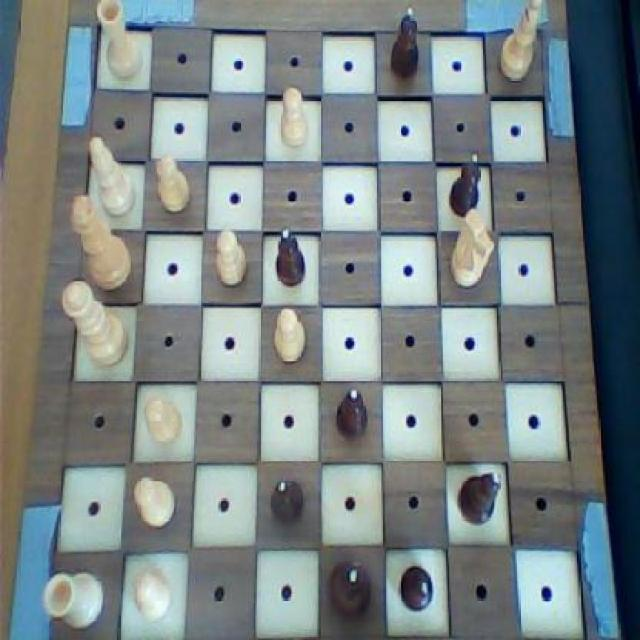bishop: (454, 466, 503, 528)
black-bishop: (326, 555, 374, 624)
black-knight: (384, 6, 426, 83), (444, 148, 484, 218), (272, 222, 306, 288), (396, 560, 436, 615)
black-rook: (85, 132, 137, 224), (492, 0, 540, 86)
white-bishop: (68, 188, 133, 294)
white-king: (446, 207, 499, 296)
white-knight: (152, 150, 197, 214), (129, 475, 180, 531), (274, 81, 314, 152), (140, 396, 185, 452), (271, 305, 310, 369), (131, 565, 173, 623), (211, 228, 248, 290)
white-pawn: (60, 275, 132, 374)
white-queen: (38, 566, 104, 631), (96, 0, 146, 85)
